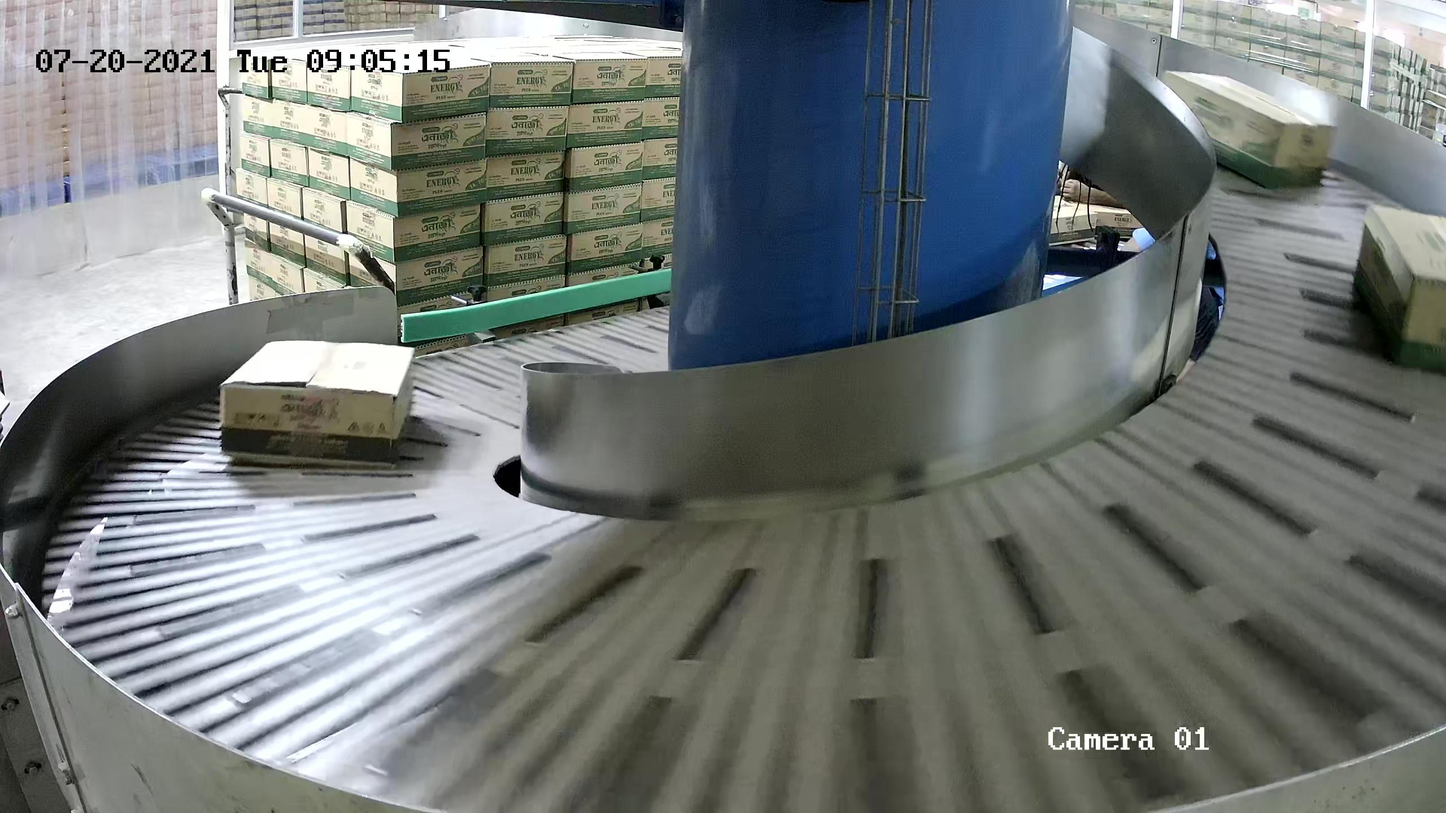Box: (216, 337, 420, 468), (1152, 68, 1340, 194), (1348, 199, 1446, 385)
